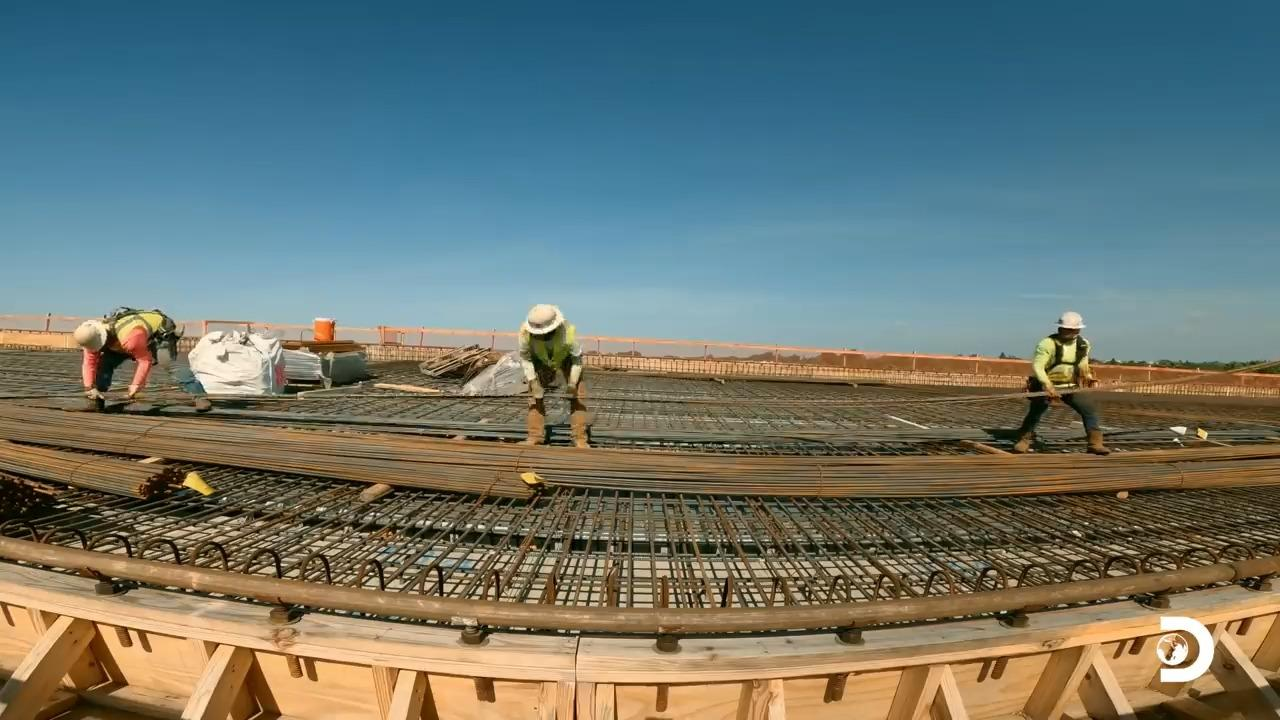Gloves: (528, 382, 545, 401), (82, 386, 105, 400), (564, 381, 579, 399), (122, 386, 136, 402)
Helmet: (526, 303, 563, 335), (73, 319, 107, 351), (1056, 311, 1085, 330)
Person: (73, 307, 214, 414), (1015, 310, 1113, 455), (515, 301, 593, 448)
Safety Boot: (1013, 431, 1044, 453), (190, 393, 214, 415), (1083, 436, 1111, 454), (517, 433, 544, 448), (572, 433, 590, 449)
Safety Vest: (1043, 347, 1081, 386), (527, 335, 572, 366), (114, 315, 170, 338)
bare-arms: (1044, 384, 1062, 409), (1083, 373, 1104, 392)
